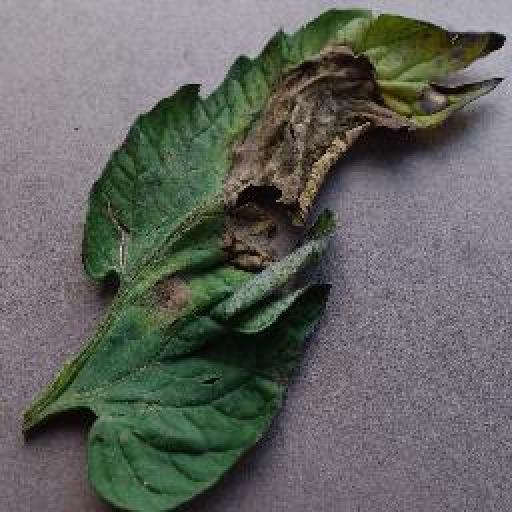disease_tomato: (82, 5, 510, 512)
